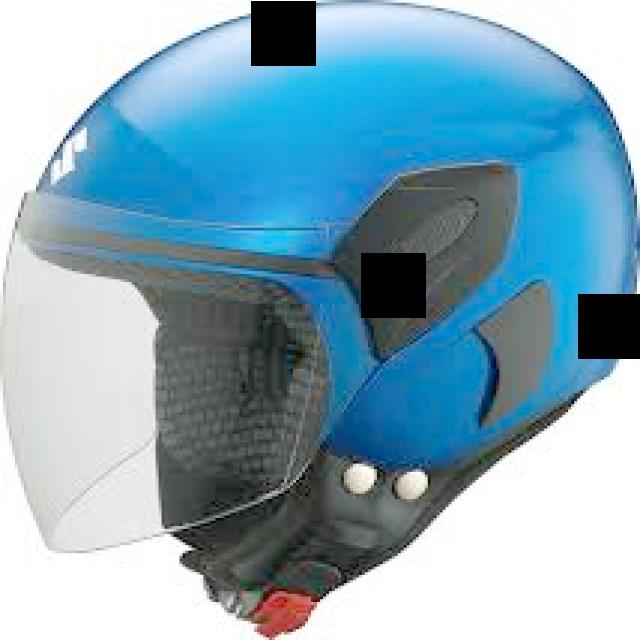Helmet: (3, 1, 637, 637)
